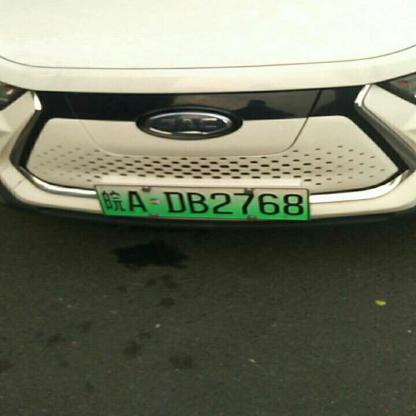lp: (95, 184, 308, 219)
